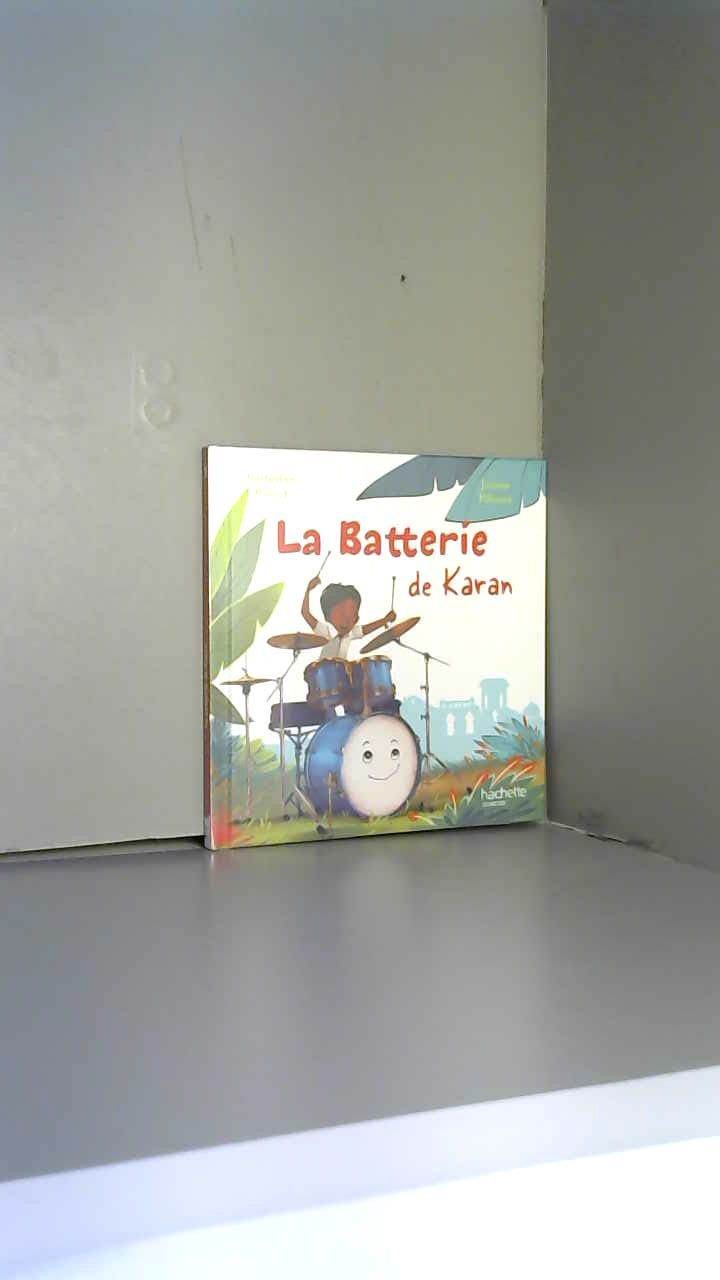book: (181, 428, 569, 867)
